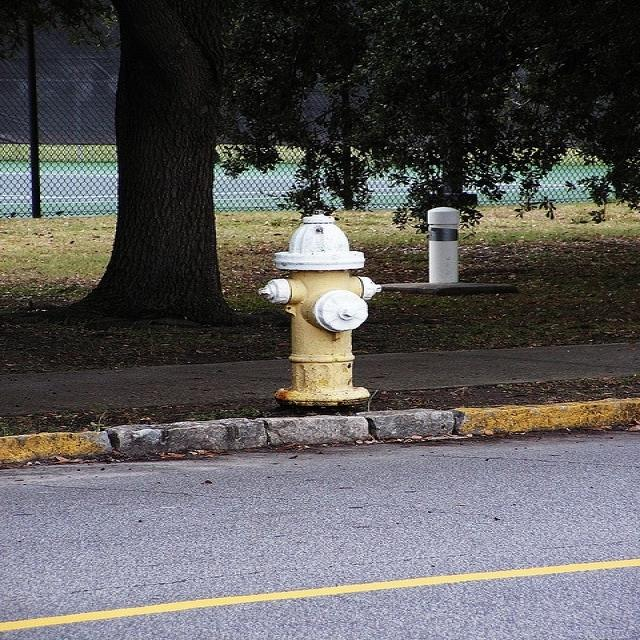fire_hydrant: (244, 191, 440, 416)
